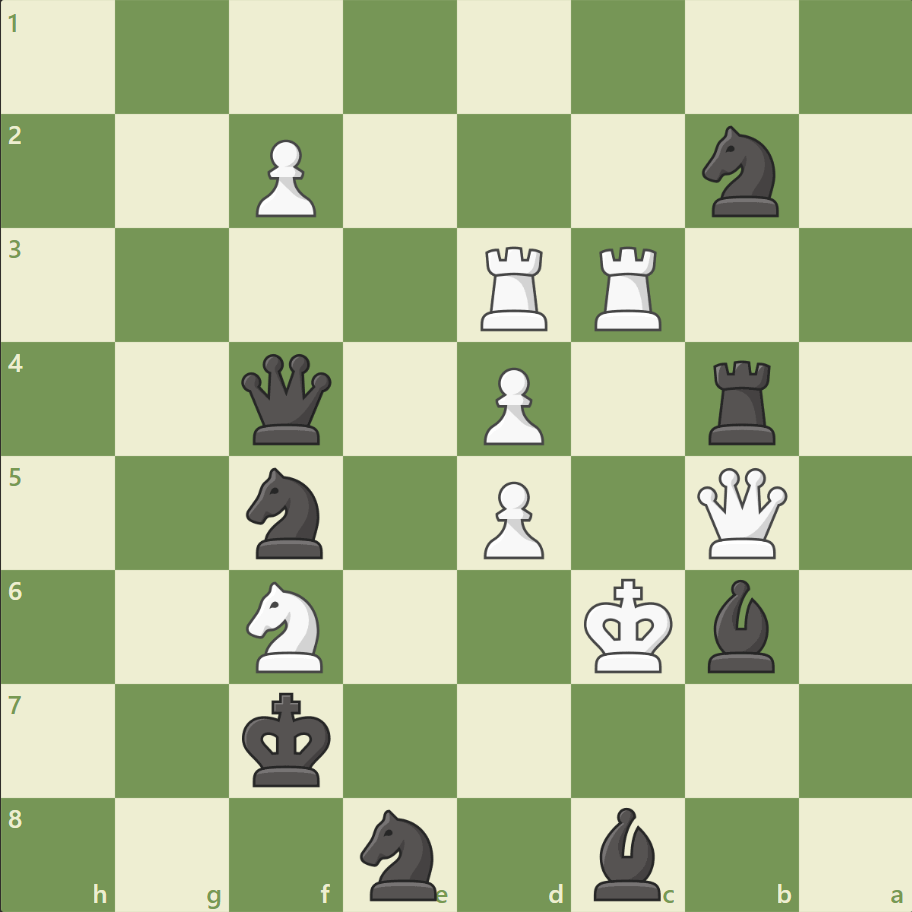K: (579, 571, 679, 679)
N: (238, 575, 335, 677)
P: (474, 473, 549, 564), (474, 359, 549, 450), (247, 132, 322, 223)
Q: (691, 463, 790, 562)
R: (587, 239, 670, 336), (473, 239, 556, 336)
b: (585, 801, 669, 904), (698, 574, 782, 676)
k: (238, 685, 338, 793)
n: (351, 802, 449, 904), (238, 461, 335, 564), (692, 121, 789, 223)
q: (237, 349, 336, 449)
r: (700, 352, 783, 449)
